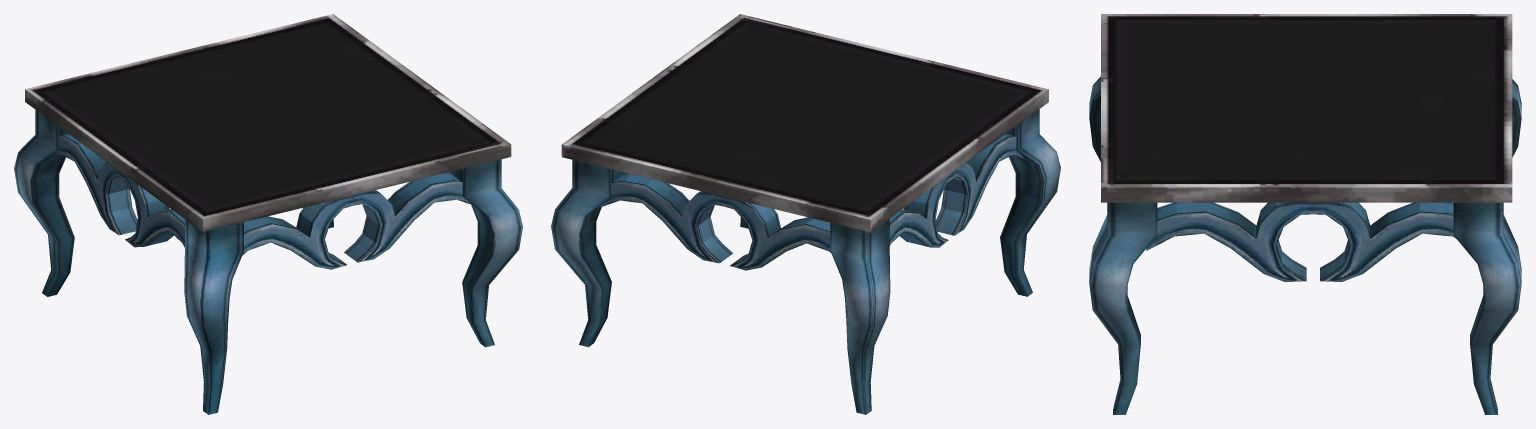
File: furni_0201211_01.FBX
The picture shows the model from 3 angles, left to right: view 1: azimuth 30°, elevation 25°; view 2: azimuth 150°, elevation 25°; view 3: azimuth 270°, elevation 25°; orthographic projection. The views are drawn at different scales.
Visible parts, largest first — view 1: furni_0201211_01; view 2: furni_0201211_01; view 3: furni_0201211_01.
Part boxes in pixels (x1=…): furni_0201211_01: x1=14, y1=14, x2=522, y2=414; furni_0201211_01: x1=551, y1=14, x2=1060, y2=414; furni_0201211_01: x1=1089, y1=14, x2=1521, y2=414.
Size of the model in its own units: 83.56 by 50.06 by 84.04.
